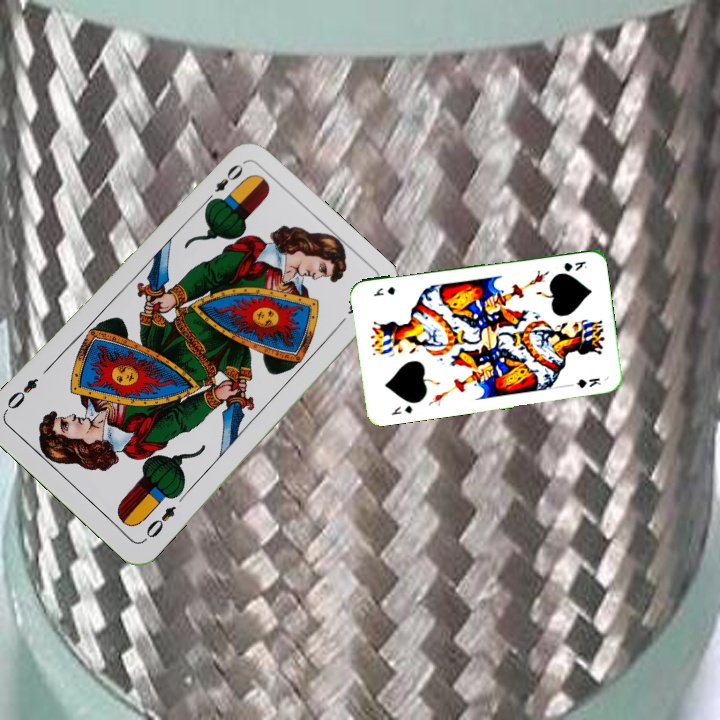EO: (200, 160, 246, 208), (141, 501, 179, 541)
GK: (560, 257, 589, 274), (387, 401, 415, 418)
